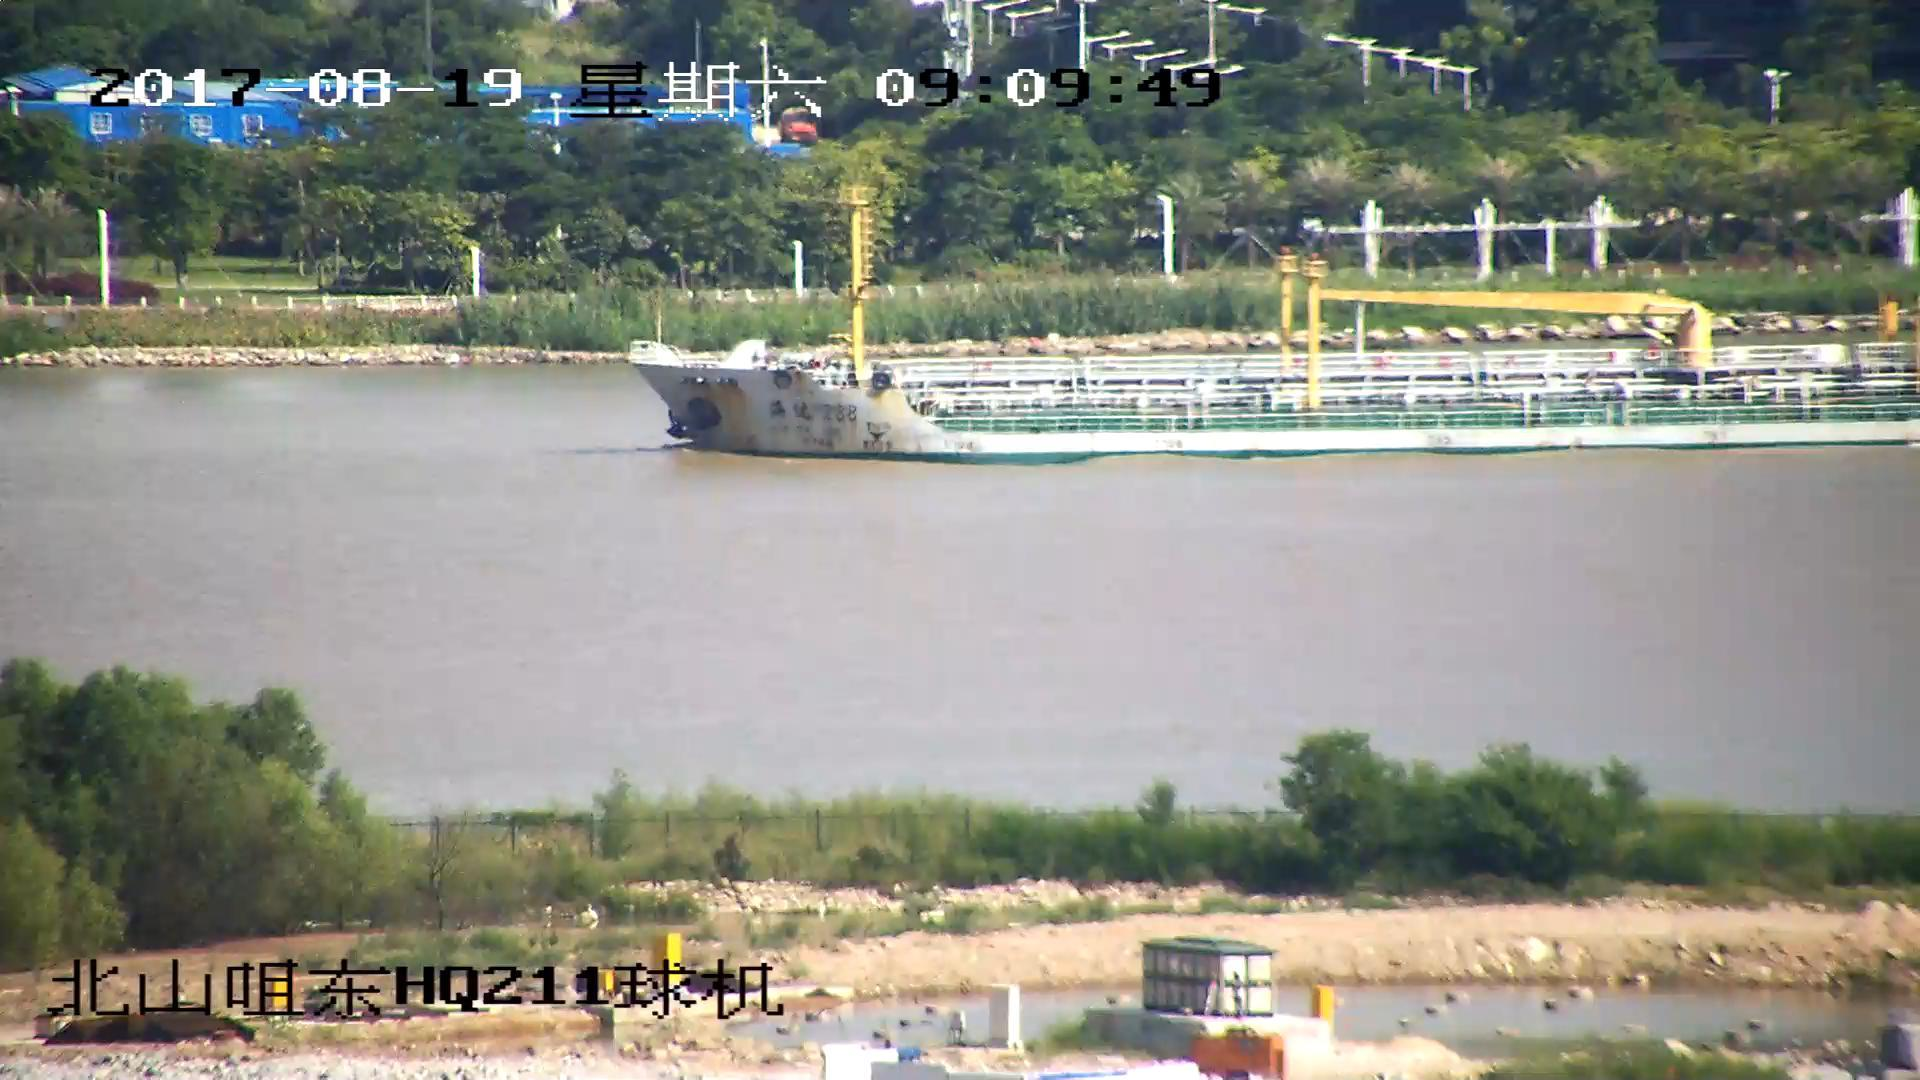Ship: (632, 211, 1920, 460)
